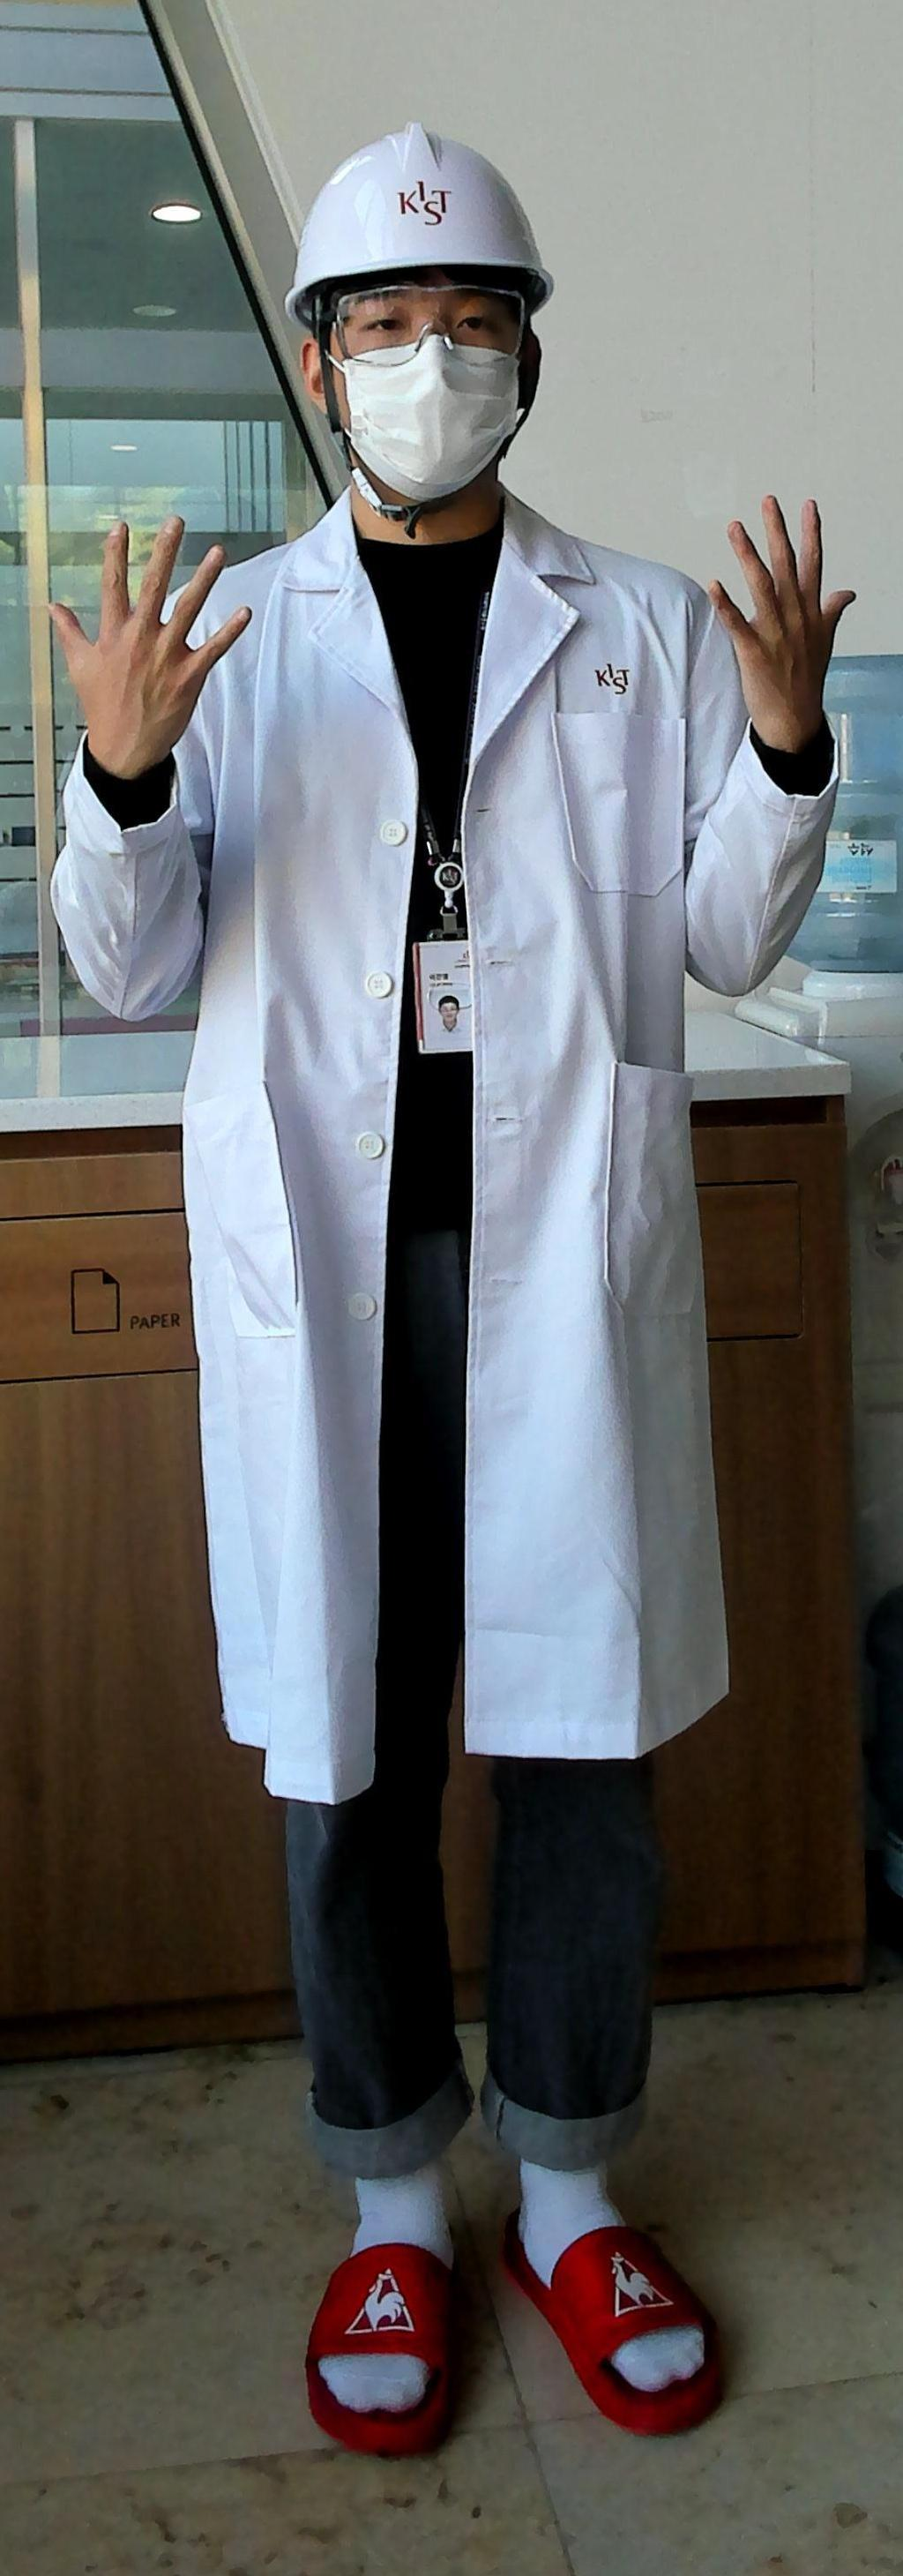lab_coat: (230, 570, 703, 1801)
